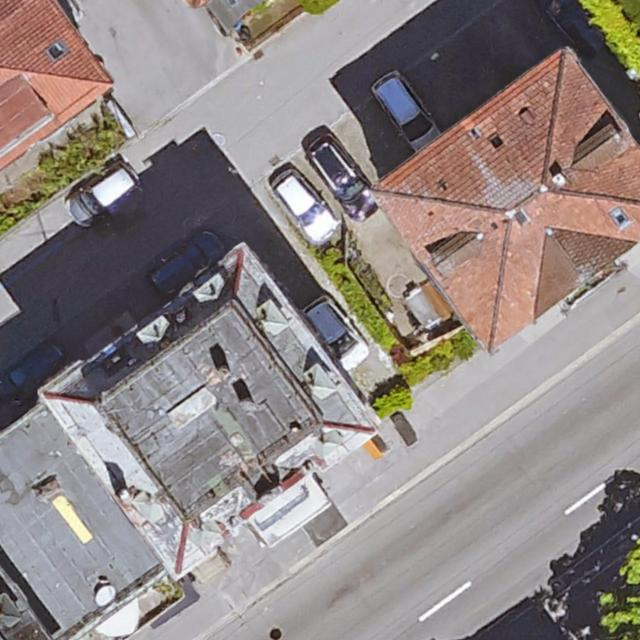tree: (601, 547, 640, 640)
